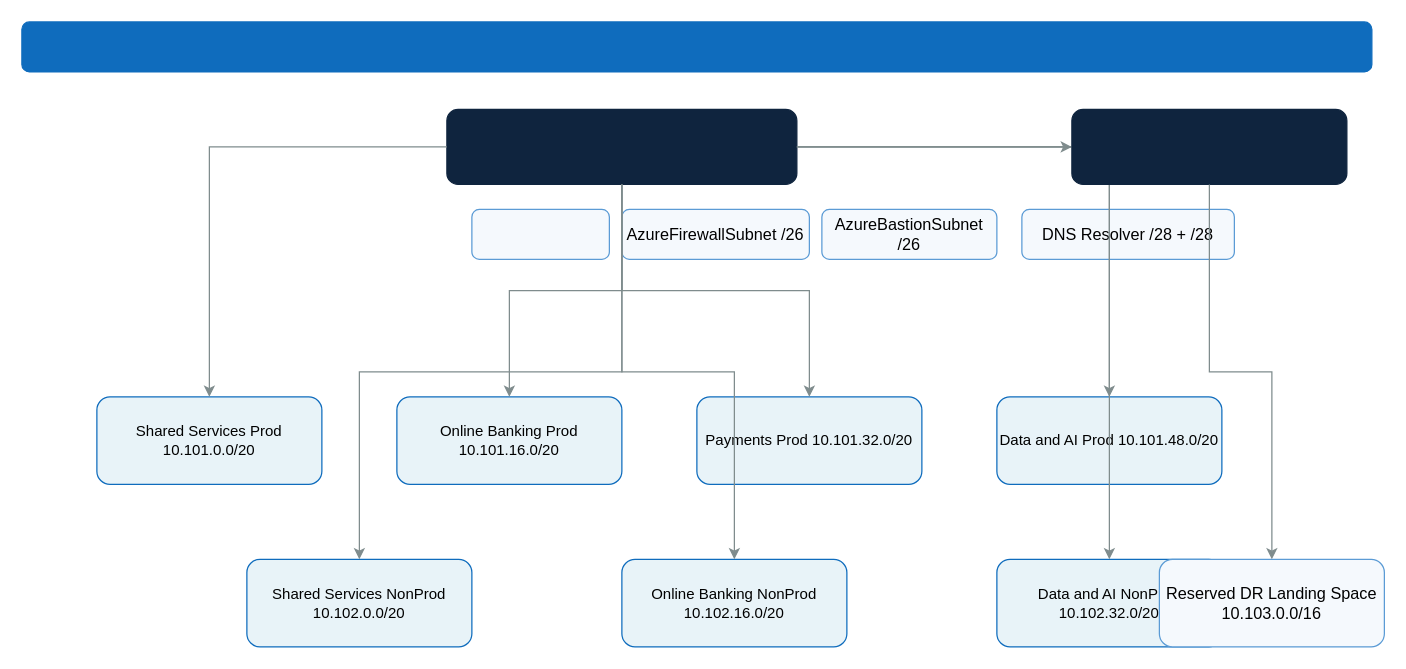
Some shapes in this 1406 by 669 pixel diagram are drawn without their labels. The centre of each missing label's shape, as x and y in pixels:
GatewaySubnet /27: the point at 540,233
Trust Bank Network Topology - UK South Primary / UK West DR: the point at 696,46
UK South Hub VNet 10.100.0.0/20: the point at 621,146
UK West Hub VNet 10.100.16.0/20: the point at 1209,146
